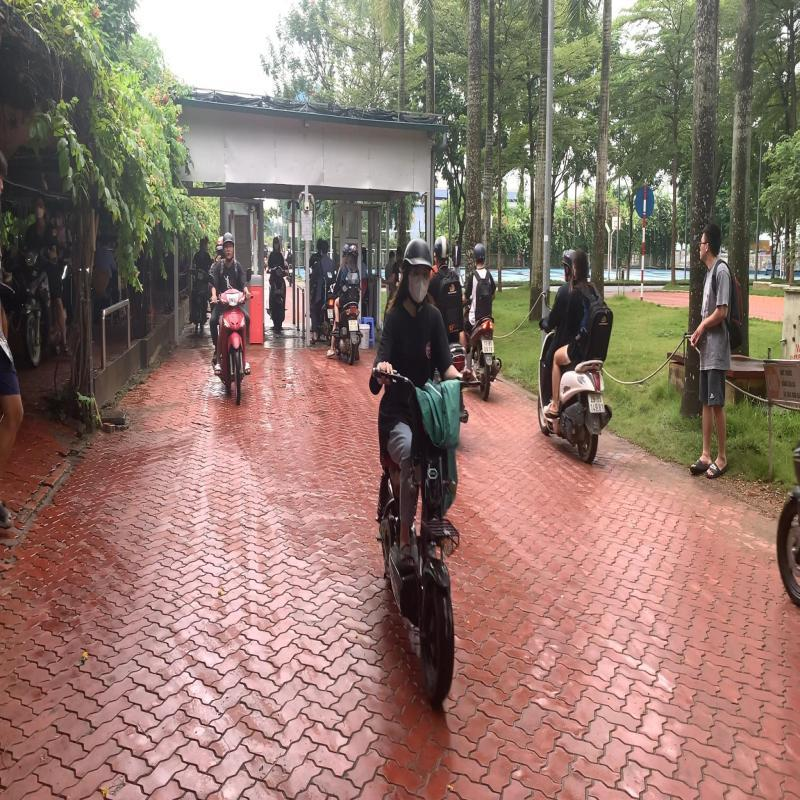nohelmet: (569, 245, 590, 280)
